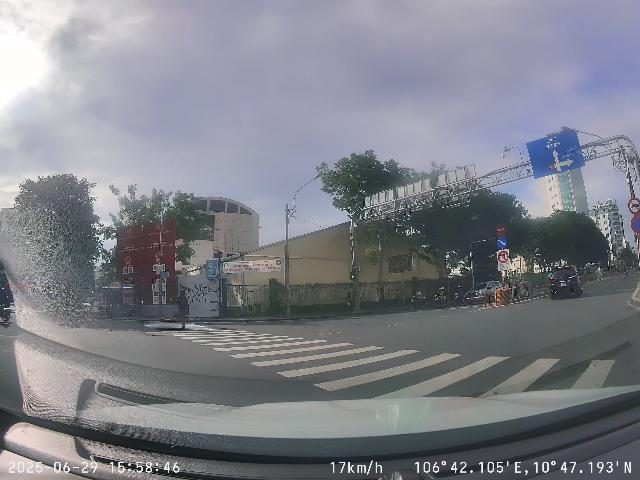102-cam-di-nguoc-chieu: (495, 224, 506, 236)
123a-cam-re-trai: (498, 251, 509, 263)
131a-cam-do-xe: (631, 215, 640, 233)
302a-huong-phai-di-vong-chuong-ngai-vat-1: (497, 237, 507, 249)
